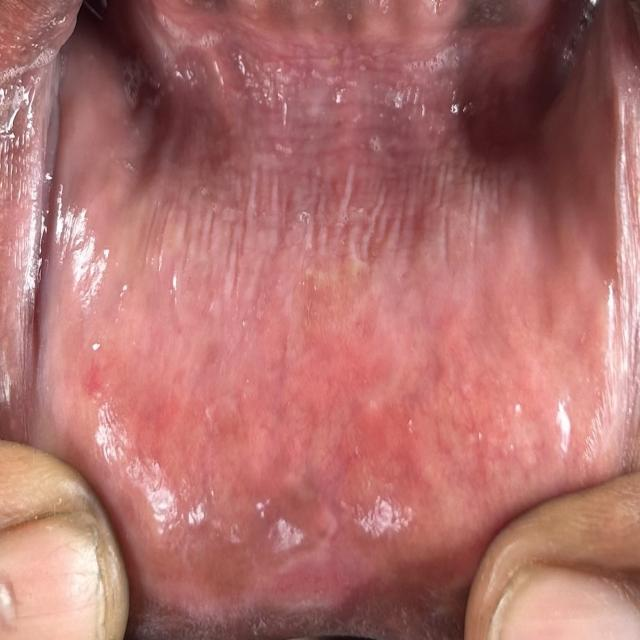leukoplakia-like-detection: (119, 11, 542, 326)
processing_area: (0, 4, 639, 602)
